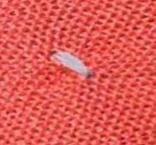hole: (44, 47, 95, 82)
